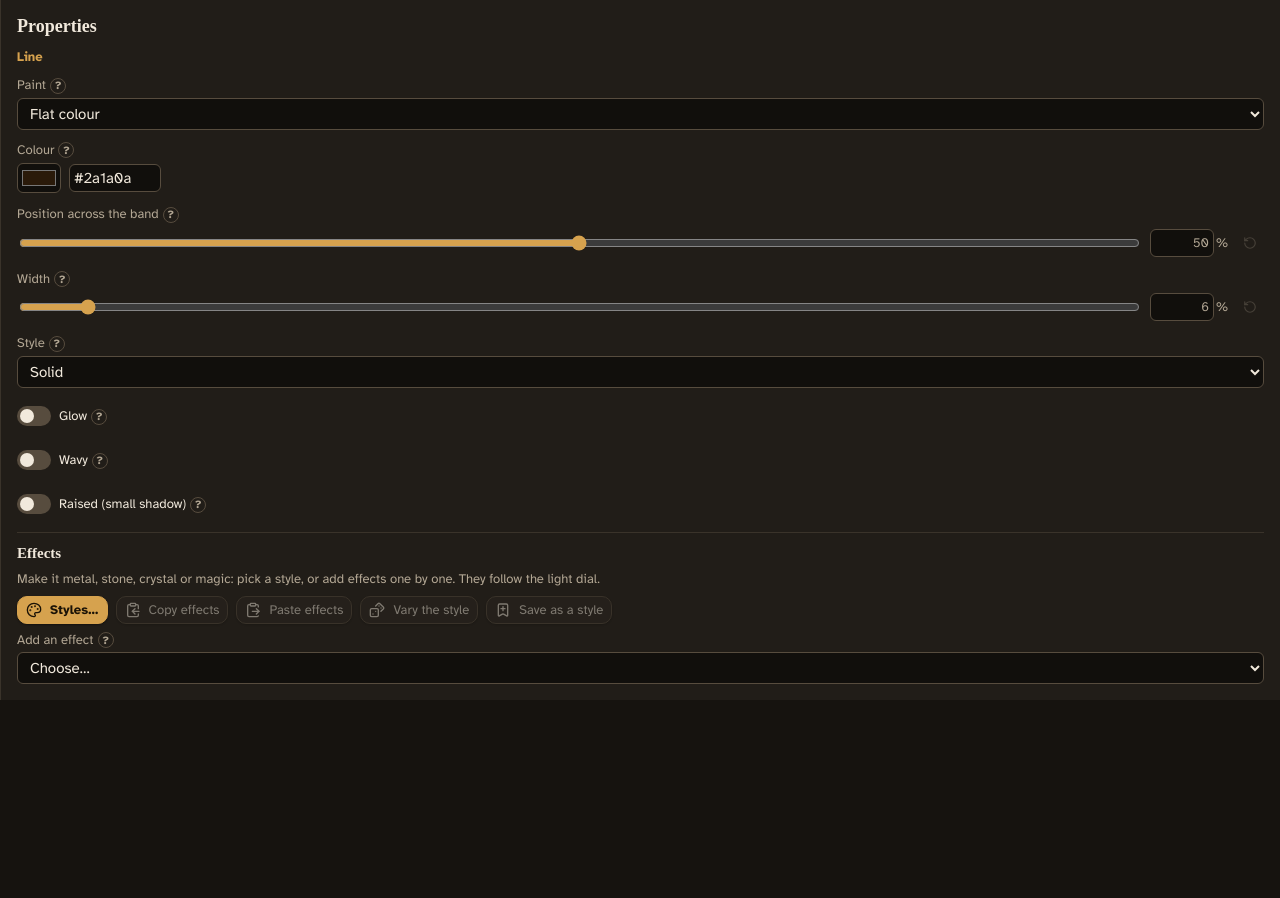
Scenario: Phase 2 panels › switching a line to wavy shows the wave settings
Expected: the text "Wave height" is not shown
Step 1. Click the switch labelled "Wavy" → (52, 460), box [17, 444, 88, 476]
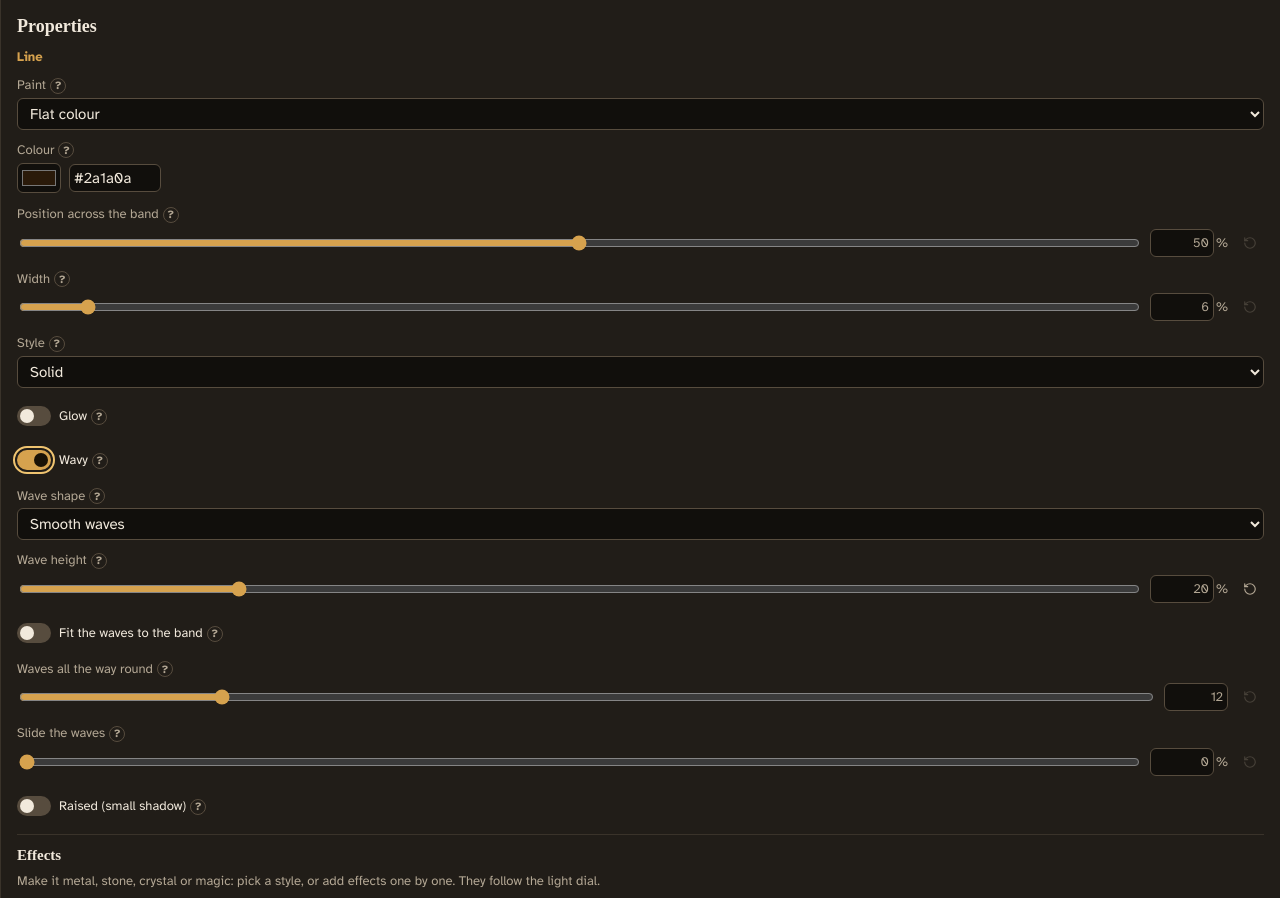
Result: the text "Wave height" is shown at [17, 552, 87, 568]
